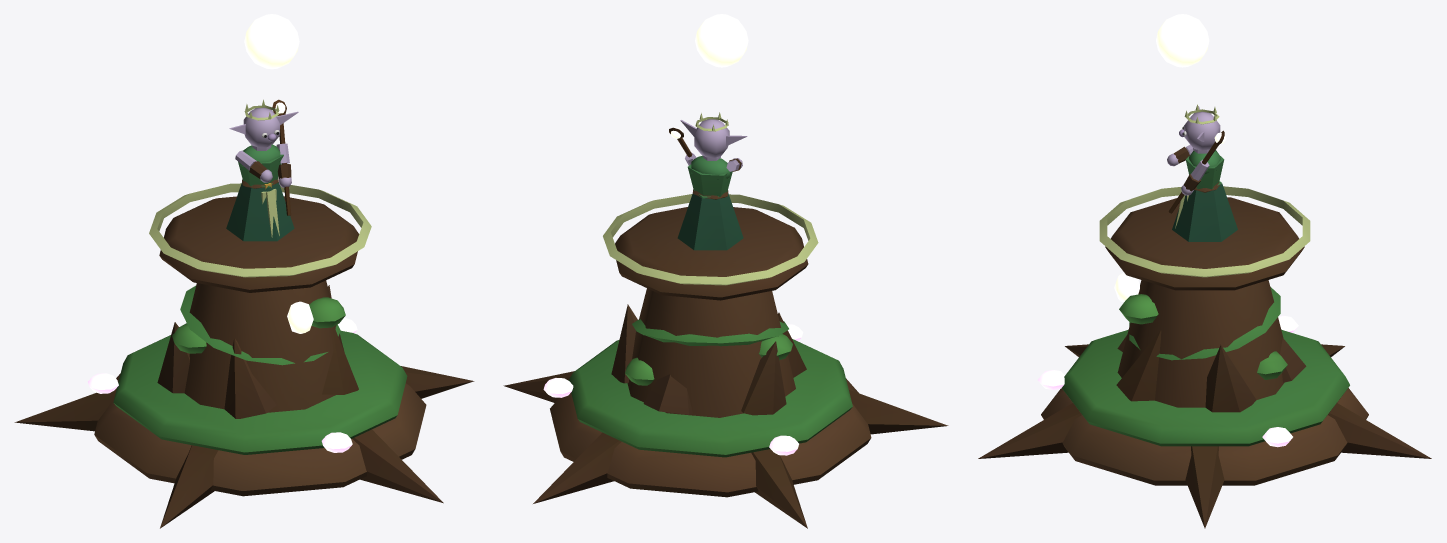
The model's file is sylvestres_5.glb.
The picture shows the model from 3 angles, left to right: view 1: azimuth 30°, elevation 25°; view 2: azimuth 150°, elevation 25°; view 3: azimuth 270°, elevation 25°; orthographic projection. The views are drawn at different scales.
Parts seen in each view (by area): view 1: sylvestres_5_peint, Buste_peint, OrbeMagique, Crane_peint, sylvestres_5_lueur, Lanterne, BrasG_peint; view 2: sylvestres_5_peint, Buste_peint, OrbeMagique, Crane_peint, sylvestres_5_lueur; view 3: sylvestres_5_peint, Buste_peint, OrbeMagique, Crane_peint, sylvestres_5_lueur, Lanterne.
Boxes of the visible parts, <box> form: sylvestres_5_peint: <box>14,183,474,528</box>; Buste_peint: <box>226,144,294,241</box>; OrbeMagique: <box>244,14,299,69</box>; Crane_peint: <box>229,99,298,147</box>; sylvestres_5_lueur: <box>88,317,357,452</box>; Lanterne: <box>287,301,313,333</box>; BrasG_peint: <box>235,150,272,182</box>; sylvestres_5_peint: <box>503,194,948,528</box>; Buste_peint: <box>677,155,743,250</box>; OrbeMagique: <box>695,14,748,67</box>; Crane_peint: <box>680,112,747,157</box>; sylvestres_5_lueur: <box>543,324,803,455</box>; sylvestres_5_peint: <box>978,186,1431,528</box>; Buste_peint: <box>1172,150,1237,241</box>; OrbeMagique: <box>1156,14,1209,67</box>; Crane_peint: <box>1179,104,1220,150</box>; sylvestres_5_lueur: <box>1038,315,1298,447</box>; Lanterne: <box>1114,272,1139,302</box>.
Bounding box in the file's own units: 0.9693 × 1.02 × 1.02.
